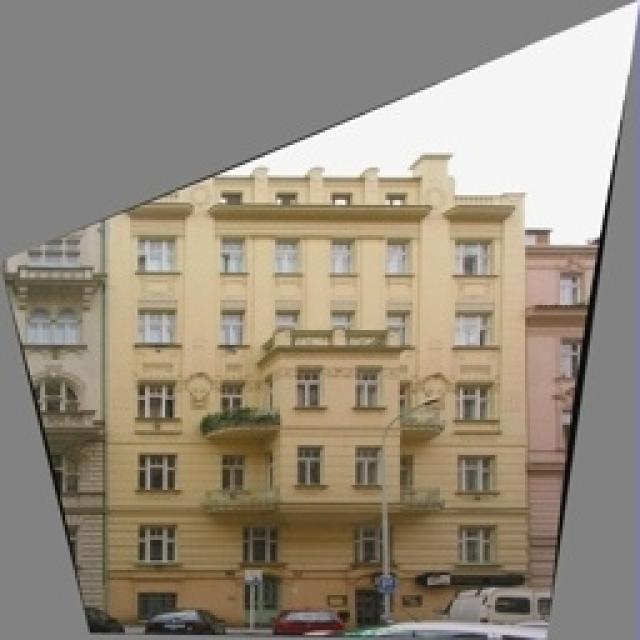building: (105, 140, 533, 638)
